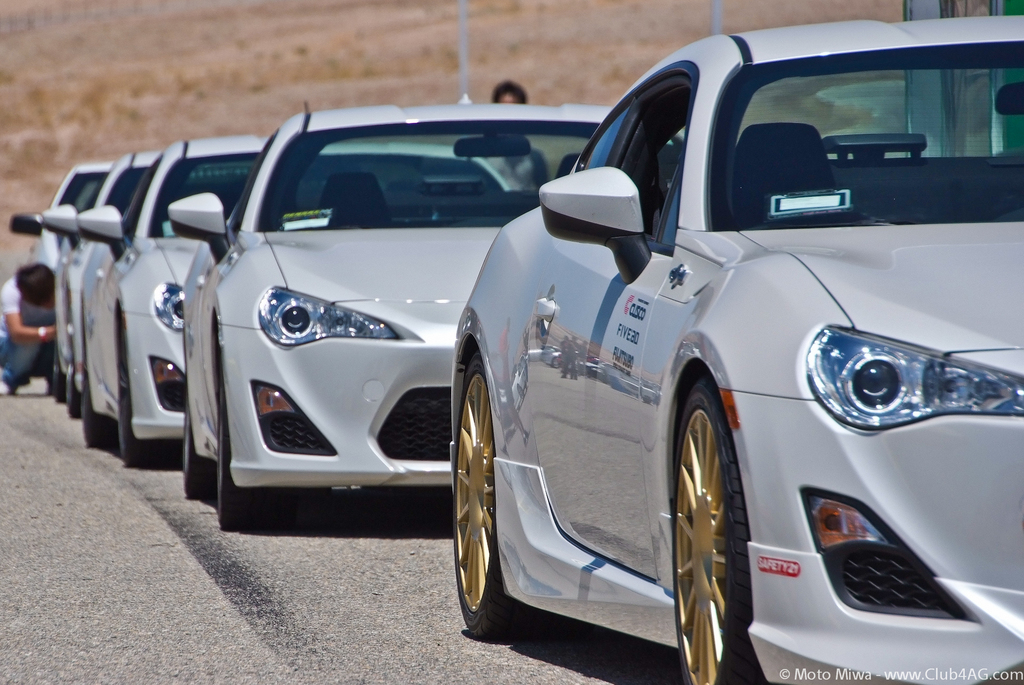Car: (8, 12, 1023, 684)
